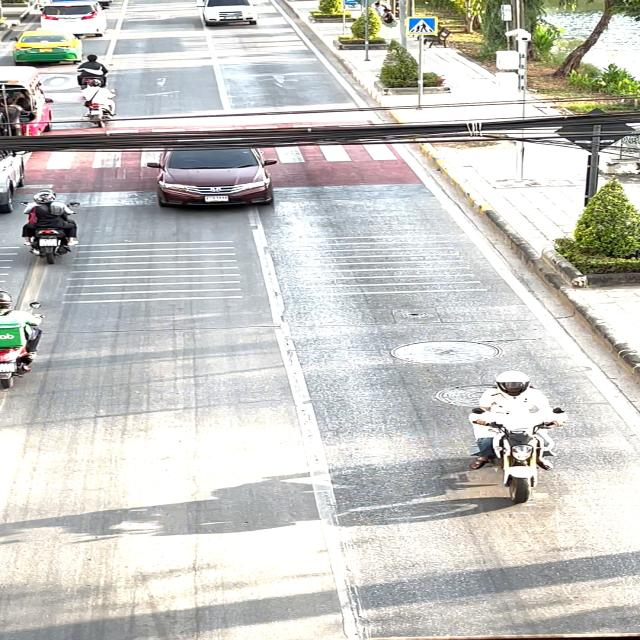car: (143, 118, 298, 236), (184, 0, 279, 38)
